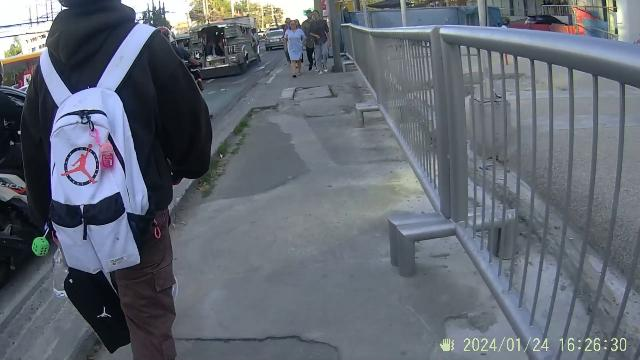cracked_pavement: (180, 320, 344, 360), (226, 97, 294, 148), (284, 79, 340, 109)
